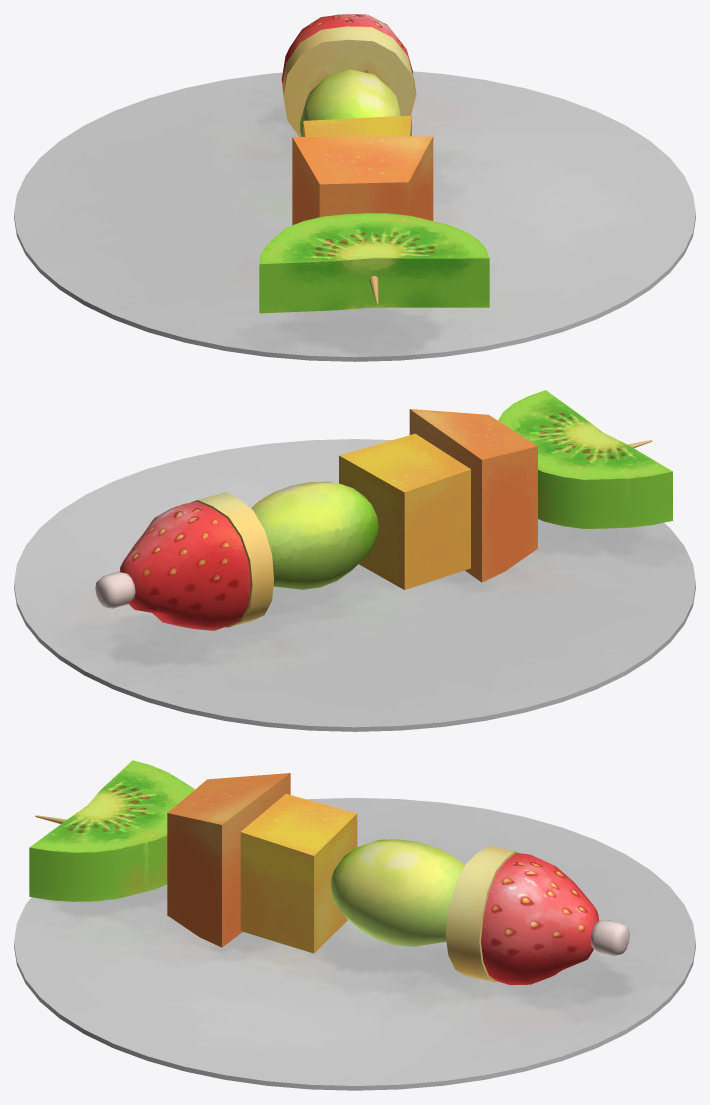
File: 5_3_fruit_kebab.fbx
3 renders of one model, top to bottom at view 1: azimuth 30°, elevation 25°; view 2: azimuth 150°, elevation 25°; view 3: azimuth 270°, elevation 25°, orthographic.
Visible parts, largest first — view 1: Circle.010, Circle.008, Cube.006, Circle.006, Sphere.005, Cube.005, Circle.007; view 2: Circle.010, Cube.005, Circle.008, Circle.007, Cube.006, Sphere.005, Circle.006, Cylinder; view 3: Circle.010, Circle.008, Cube.005, Cube.006, Circle.007, Sphere.005, Circle.006, Cylinder.
Boxes of the visible parts, bbox=[...] form: Circle.010: bbox=[14, 71, 695, 361]; Circle.008: bbox=[259, 213, 489, 313]; Cube.006: bbox=[292, 136, 433, 225]; Circle.006: bbox=[282, 26, 416, 136]; Sphere.005: bbox=[300, 69, 401, 136]; Cube.005: bbox=[303, 115, 411, 136]; Circle.007: bbox=[281, 14, 412, 84]; Circle.010: bbox=[14, 439, 695, 731]; Cube.005: bbox=[339, 433, 470, 589]; Circle.008: bbox=[498, 390, 672, 528]; Circle.007: bbox=[119, 501, 250, 630]; Cube.006: bbox=[409, 409, 537, 582]; Sphere.005: bbox=[251, 481, 378, 589]; Circle.006: bbox=[191, 492, 273, 627]; Cylinder: bbox=[95, 572, 135, 608]; Circle.010: bbox=[14, 798, 695, 1090]; Circle.008: bbox=[29, 760, 194, 901]; Cube.005: bbox=[240, 794, 357, 953]; Cube.006: bbox=[167, 773, 290, 947]; Circle.007: bbox=[481, 853, 598, 985]; Sphere.005: bbox=[330, 839, 464, 946]; Circle.006: bbox=[445, 845, 518, 981]; Cylinder: bbox=[590, 919, 629, 955].
Bounding box in the file's own units: 5.9 × 1.22 × 5.9.
1 material, 1 textured.
